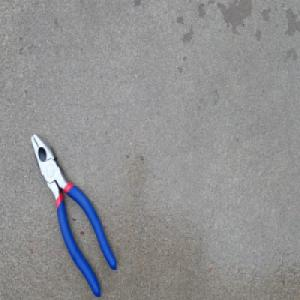Pliers: (30, 130, 118, 296)
